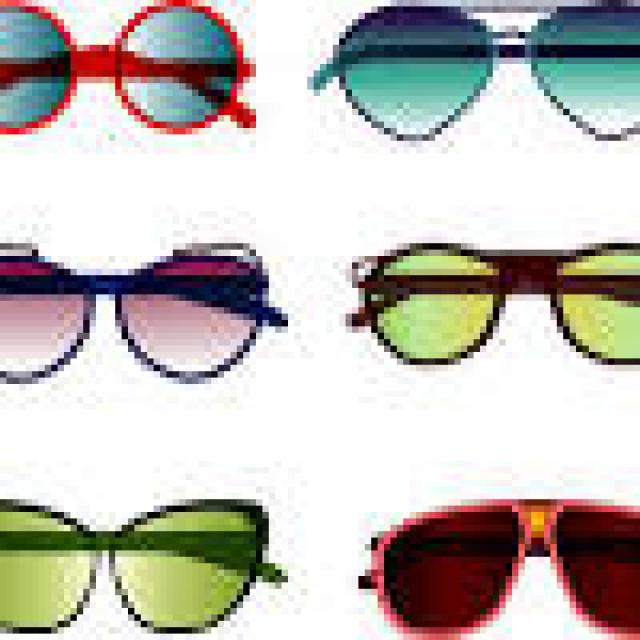sunglasses: (307, 6, 640, 634)
